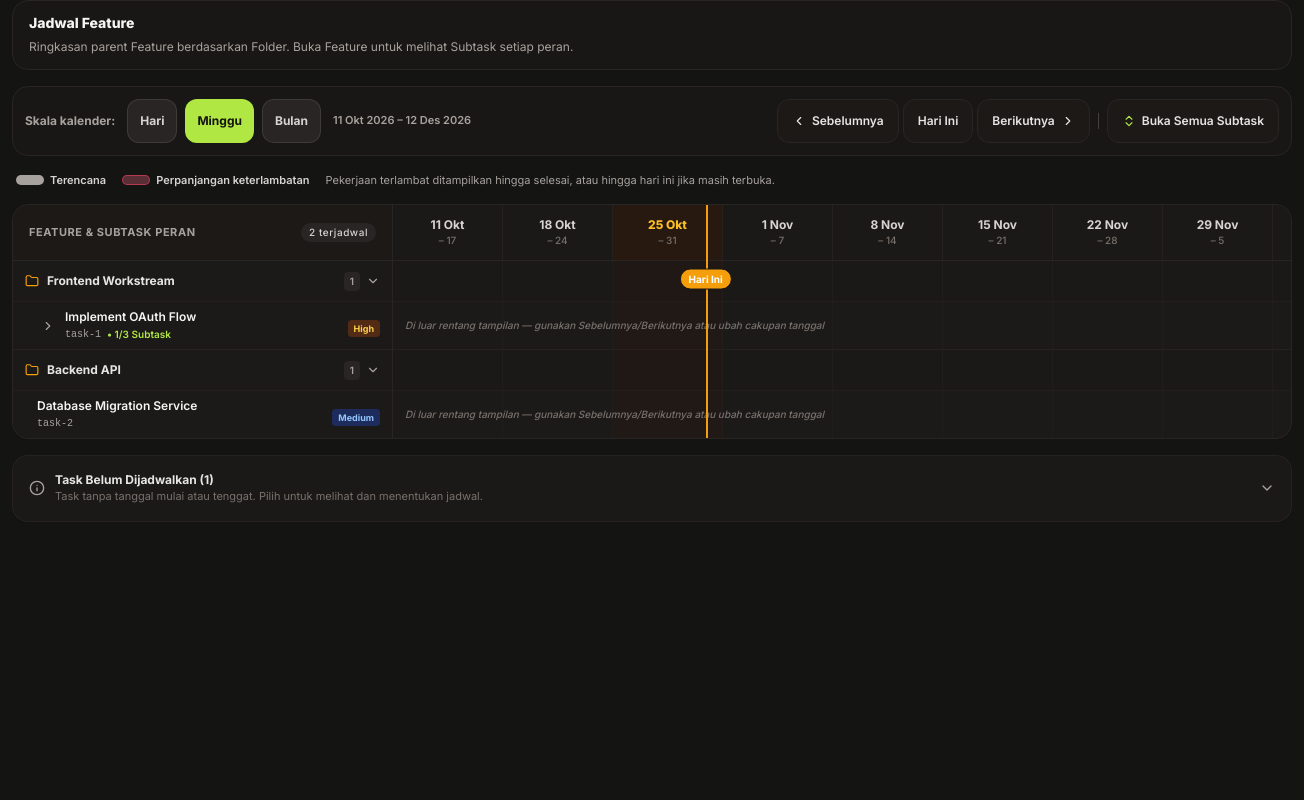
Scenario: TaskTimelineView › toggles buka semua subtasks when Buka Semua Subtask button is clicked
Check: the text "Buka Semua Subtask" is shown, box [1142,112,1264,130]
Click the button with aria-label "buka atau tutup semua alur Subtask": click(1193, 120) [1107,98,1279,142]
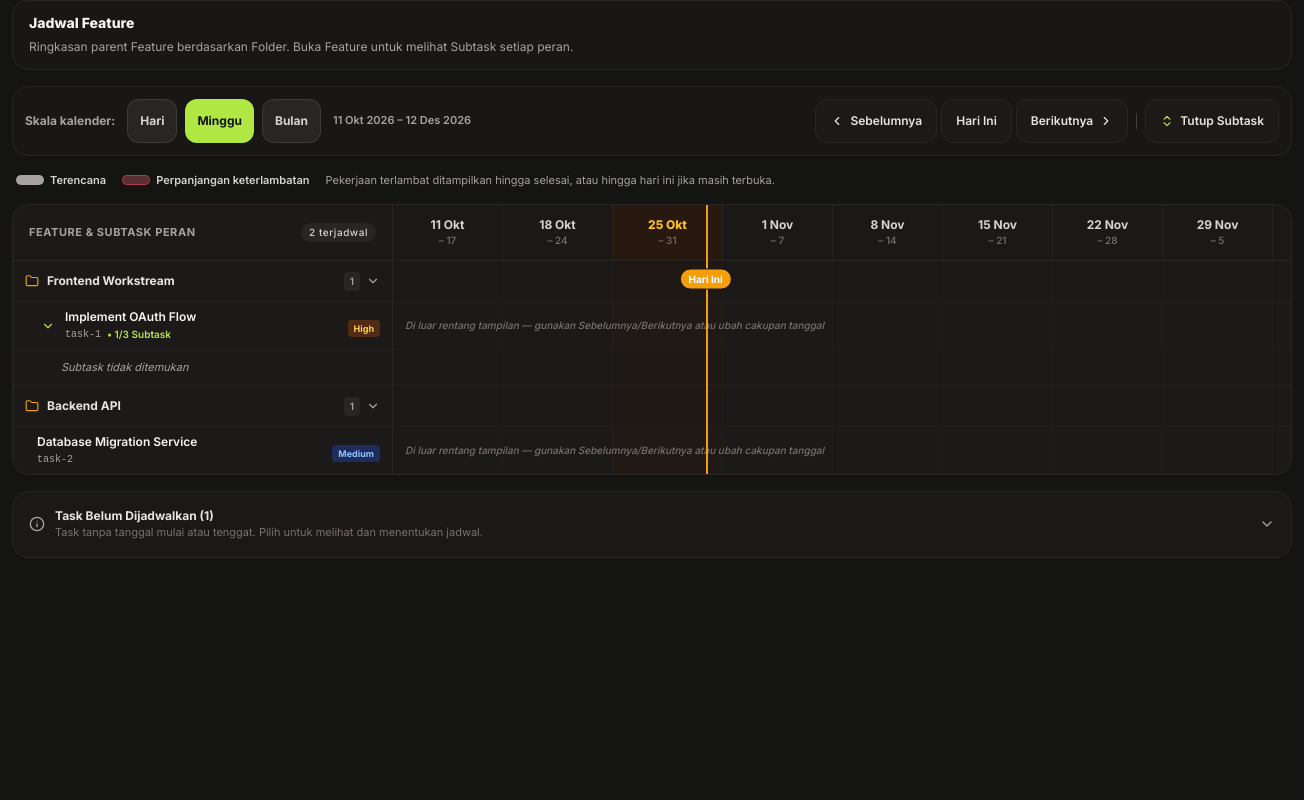
Check: the text "Tutup Subtask" is shown, box [1180,112,1264,130]
